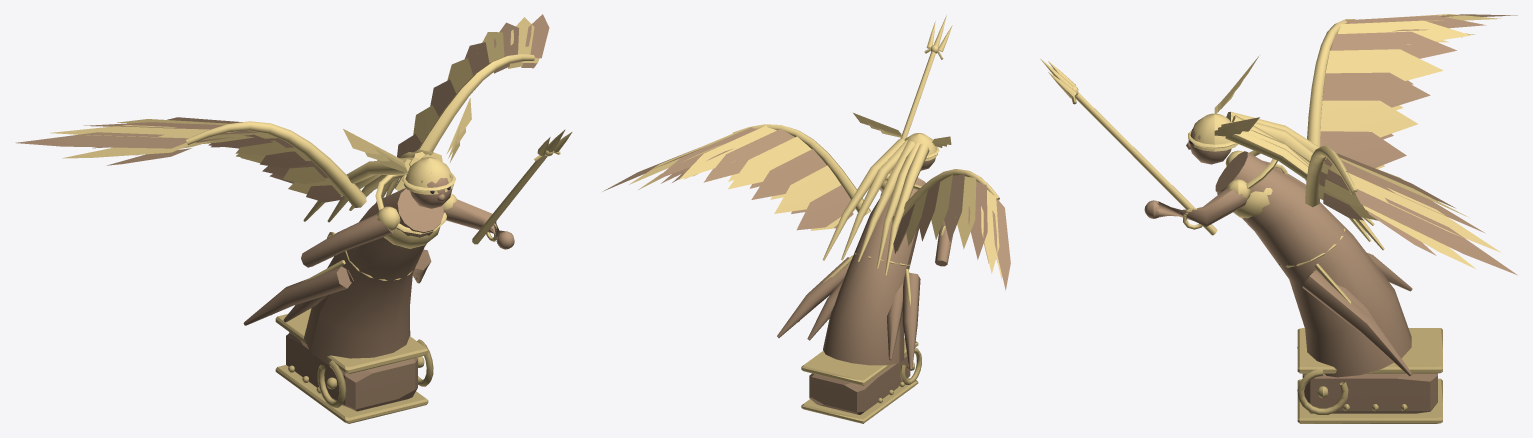
Rendered from valkyrie.glb.
3 renders of one model, left to right at view 1: azimuth 30°, elevation 25°; view 2: azimuth 150°, elevation 25°; view 3: azimuth 270°, elevation 25°, orthographic. The views are drawn at different scales.
Visible parts, largest first — view 1: G_valkyrie; view 2: G_valkyrie; view 3: G_valkyrie.
Boxes of the visible parts, <box> form: G_valkyrie: <box>15,14,572,423</box>; G_valkyrie: <box>602,15,1010,423</box>; G_valkyrie: <box>1040,14,1517,423</box>.
Size of the model in its own units: 3.64 by 2.42 by 2.83.
